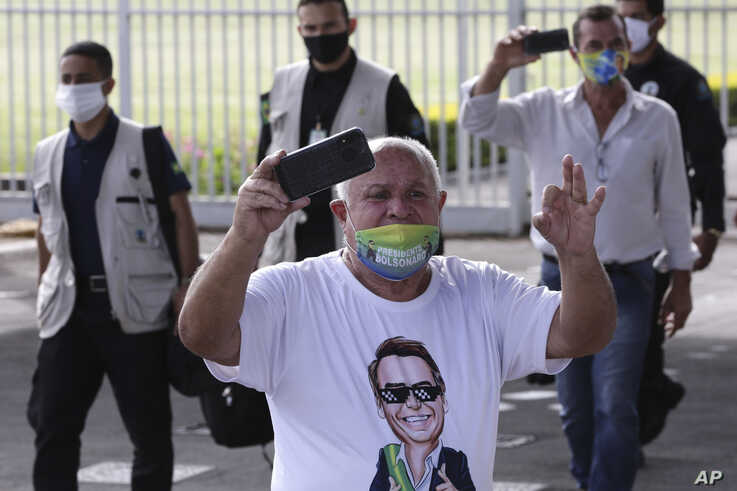mask_weared_incorrect: (330, 158, 451, 290)
